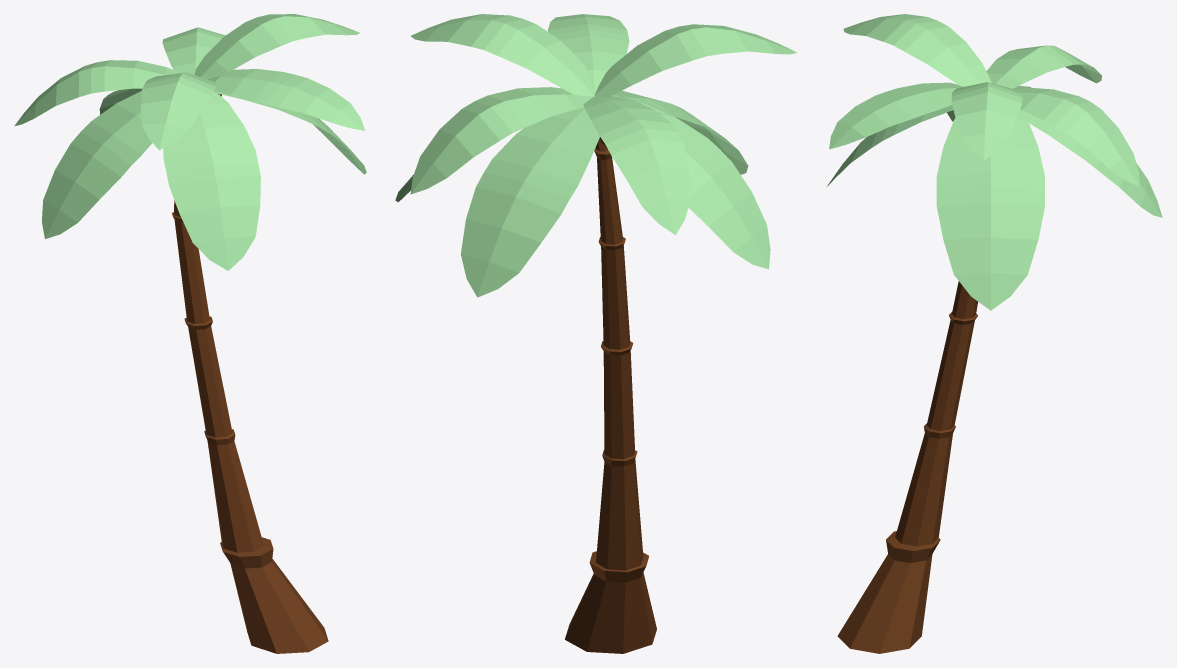
Rendered from coconuttree.fbx.
3 views of the same model, side by side, from view 1: azimuth 30°, elevation 25°; view 2: azimuth 150°, elevation 25°; view 3: azimuth 270°, elevation 25° (orthographic). The views are drawn at different scales.
Parts seen in each view (by area): view 1: Cylinder.001, Plane.003, Plane.002, Plane.008, Plane.005, Plane.007, Plane.004, Plane.006, Plane; view 2: Cylinder.001, Plane.001, Plane.004, Plane.006, Plane.002, Plane.005, Plane.007, Plane.008, Plane.003; view 3: Plane, Cylinder.001, Plane.007, Plane.006, Plane.008, Plane.005, Plane.004, Plane.001, Plane.003.
Boxes of the visible parts, bbox=[...] form: Cylinder.001: bbox=[172, 200, 328, 653]; Plane.003: bbox=[163, 92, 260, 270]; Plane.002: bbox=[42, 91, 151, 238]; Plane.008: bbox=[208, 69, 365, 130]; Plane.005: bbox=[194, 14, 359, 79]; Plane.007: bbox=[141, 72, 216, 150]; Plane.004: bbox=[14, 60, 179, 126]; Plane.006: bbox=[162, 27, 225, 74]; Plane: bbox=[213, 91, 366, 174]; Cylinder.001: bbox=[565, 141, 656, 653]; Plane.001: bbox=[460, 107, 599, 297]; Plane.004: bbox=[583, 96, 690, 235]; Plane.006: bbox=[410, 87, 593, 194]; Plane.002: bbox=[612, 95, 770, 269]; Plane.005: bbox=[411, 14, 594, 96]; Plane.007: bbox=[594, 24, 797, 97]; Plane.008: bbox=[547, 14, 629, 93]; Plane.003: bbox=[613, 90, 748, 174]; Plane: bbox=[936, 109, 1044, 310]; Cylinder.001: bbox=[837, 281, 977, 653]; Plane.007: bbox=[843, 14, 991, 86]; Plane.006: bbox=[1013, 87, 1139, 186]; Plane.008: bbox=[829, 82, 963, 149]; Plane.005: bbox=[951, 82, 1022, 160]; Plane.004: bbox=[986, 45, 1101, 88]; Plane.001: bbox=[1020, 109, 1162, 217]; Plane.003: bbox=[827, 105, 953, 186].
Size of the model in its own units: 349 by 587 by 314.
